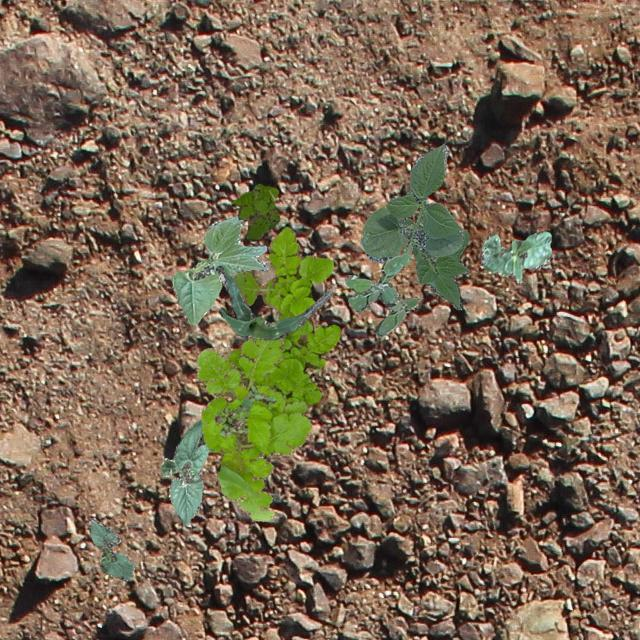crop: (361, 142, 464, 260), (172, 214, 268, 324), (215, 264, 332, 338), (396, 216, 468, 308), (160, 418, 208, 524), (480, 232, 550, 282), (88, 518, 134, 580)
weed: (196, 336, 310, 520), (224, 225, 340, 404), (344, 252, 418, 336), (212, 384, 274, 436), (230, 182, 278, 240)
